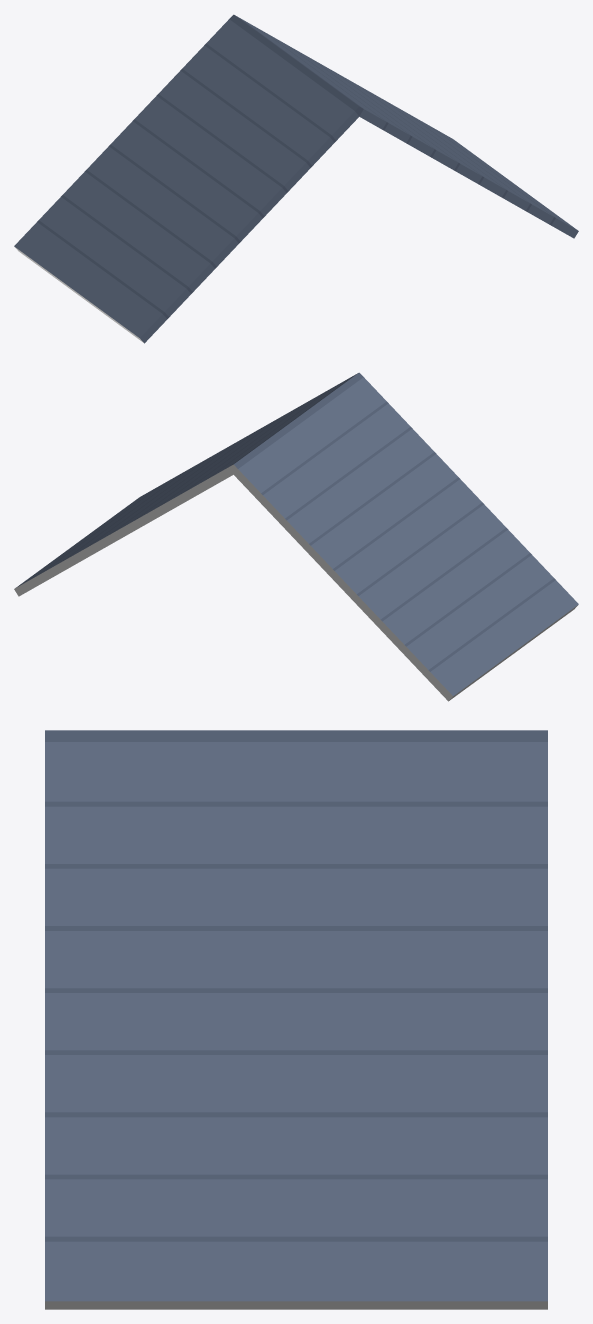
File: Roof1_C4_03.fbx
3 renders of one model, top to bottom at view 1: azimuth 30°, elevation 25°; view 2: azimuth 150°, elevation 25°; view 3: azimuth 270°, elevation 25°, orthographic. The views are drawn at different scales.
Parts seen in each view (by area): view 1: Roof1_C4_03; view 2: Roof1_C4_03; view 3: Roof1_C4_03.
Boxes of the visible parts, x1,y1,x2,y2 form: Roof1_C4_03: [14, 14, 578, 343]; Roof1_C4_03: [14, 372, 578, 701]; Roof1_C4_03: [45, 730, 547, 1309].
Size of the model in its own units: 565 by 227 by 280.
